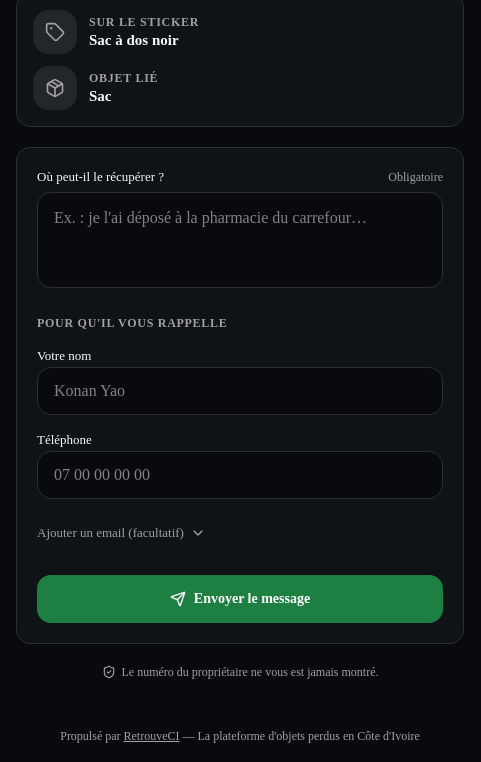
QrContactPage › reports the schema messages on their own fields, without reaching the action
(page scrolled)
Click the button "Envoyer le message". click: click(240, 598)
box: left=37, top=574, right=443, bottom=622
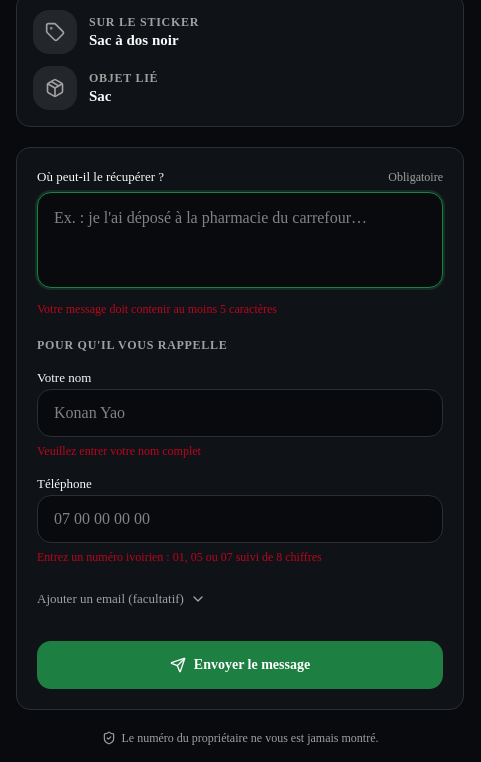
Expected: the text "Veuillez entrer votre nom complet" is shown, left=37, top=444, right=201, bottom=458
Expected: the text "Entrez un numéro ivoirien : 01, 05 ou 07 suivi de 8 chiffres" is shown, left=37, top=550, right=322, bottom=564
Expected: the text "Votre message doit contenir au moins 5 caractères" is shown, left=37, top=302, right=277, bottom=316
